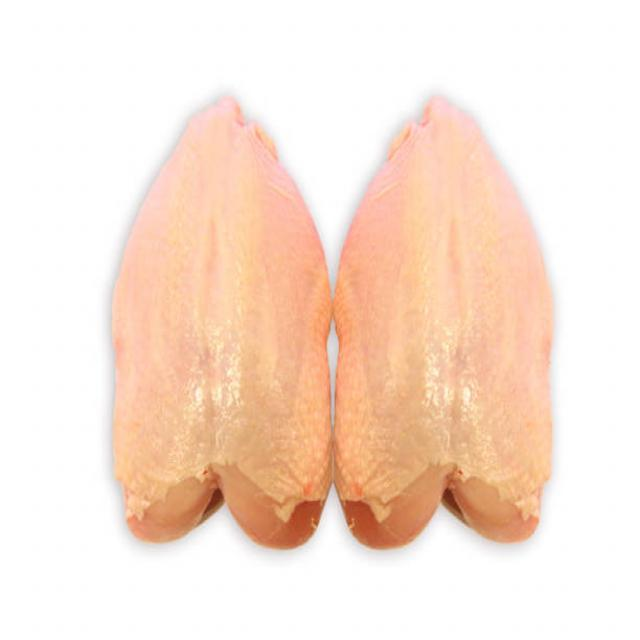Chicken Breast: (331, 63, 586, 573), (96, 71, 325, 556)
